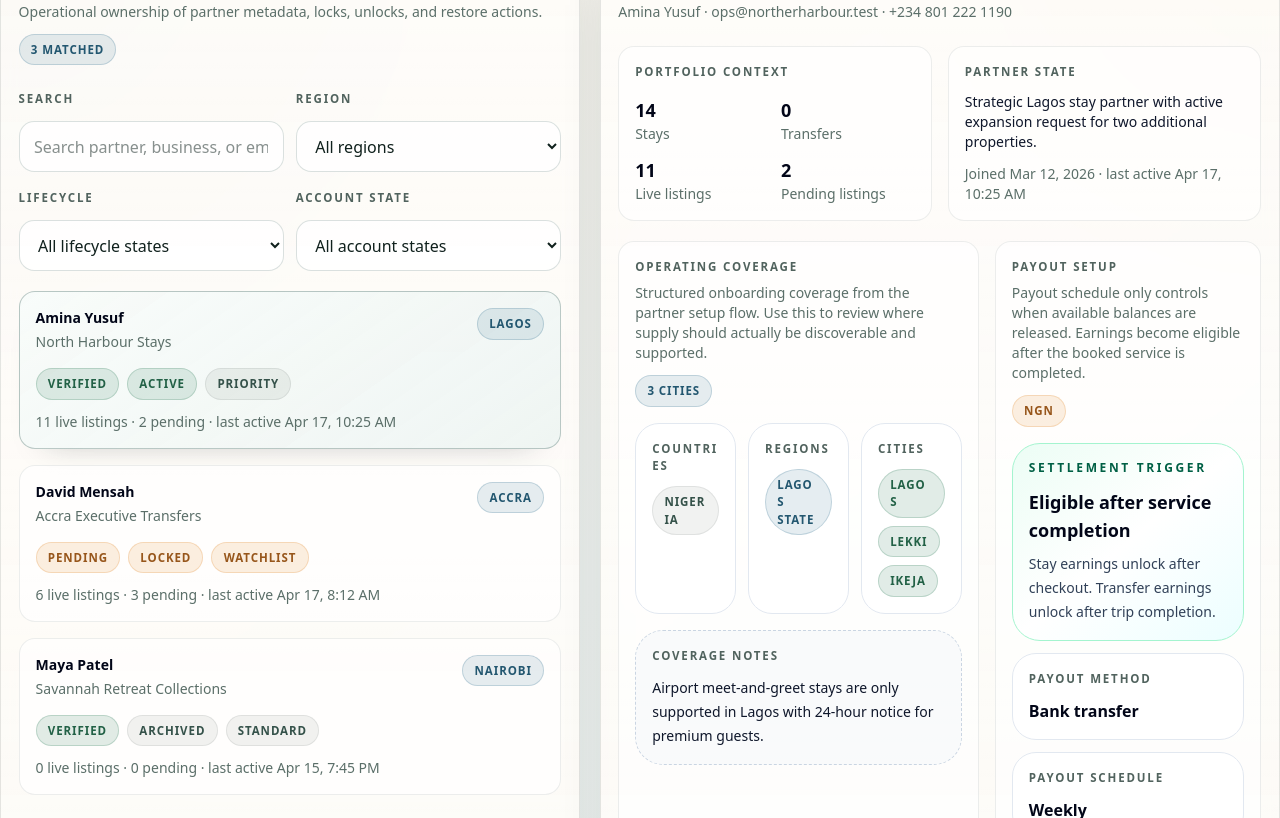
Test: PartnerOperationsWorkspace › applies restore when the selected partner is archived and role allows it
The image size is (1280, 818).
Click the button "Maya Patel" at [290, 717], box top-left (19, 638), bottom-right (561, 795)
(page scrolled)
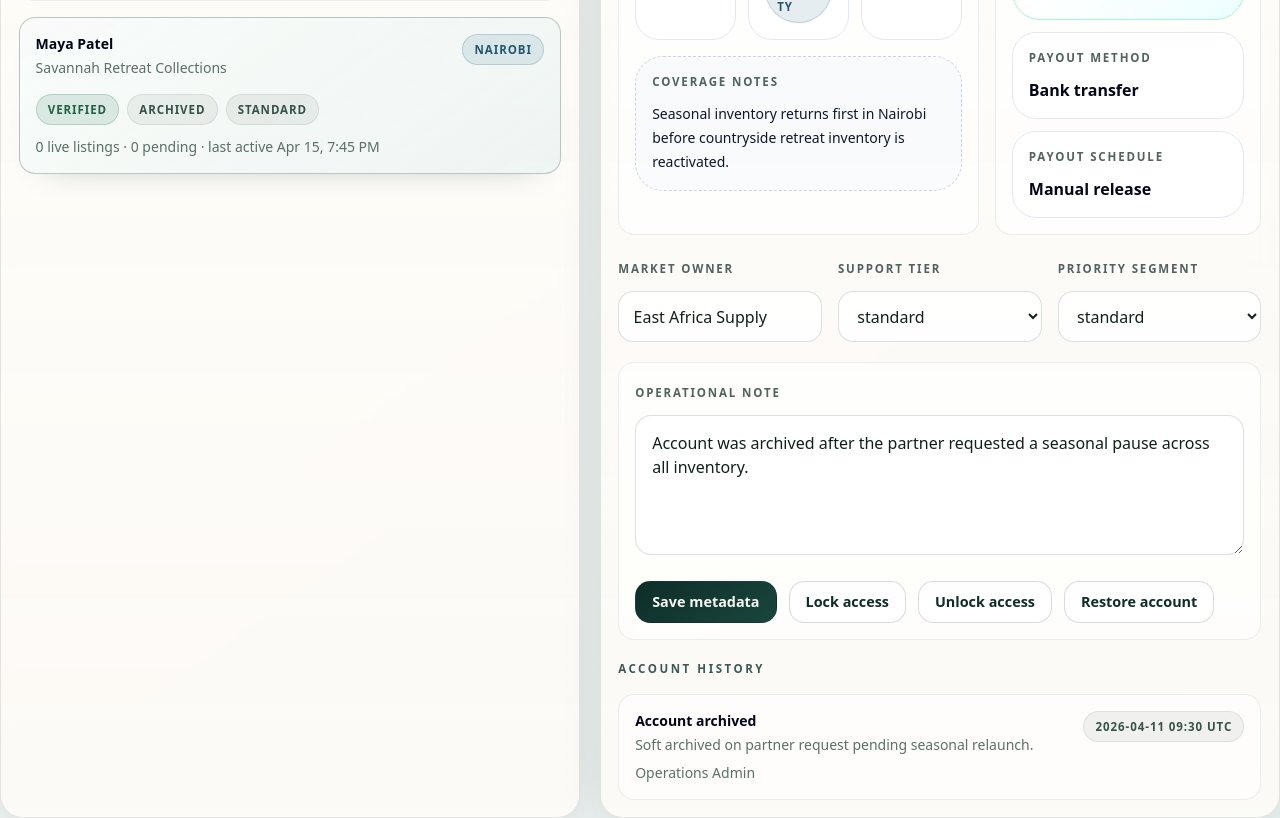
Click the button "Restore account" at [1139, 602], box top-left (1064, 581), bottom-right (1214, 623)
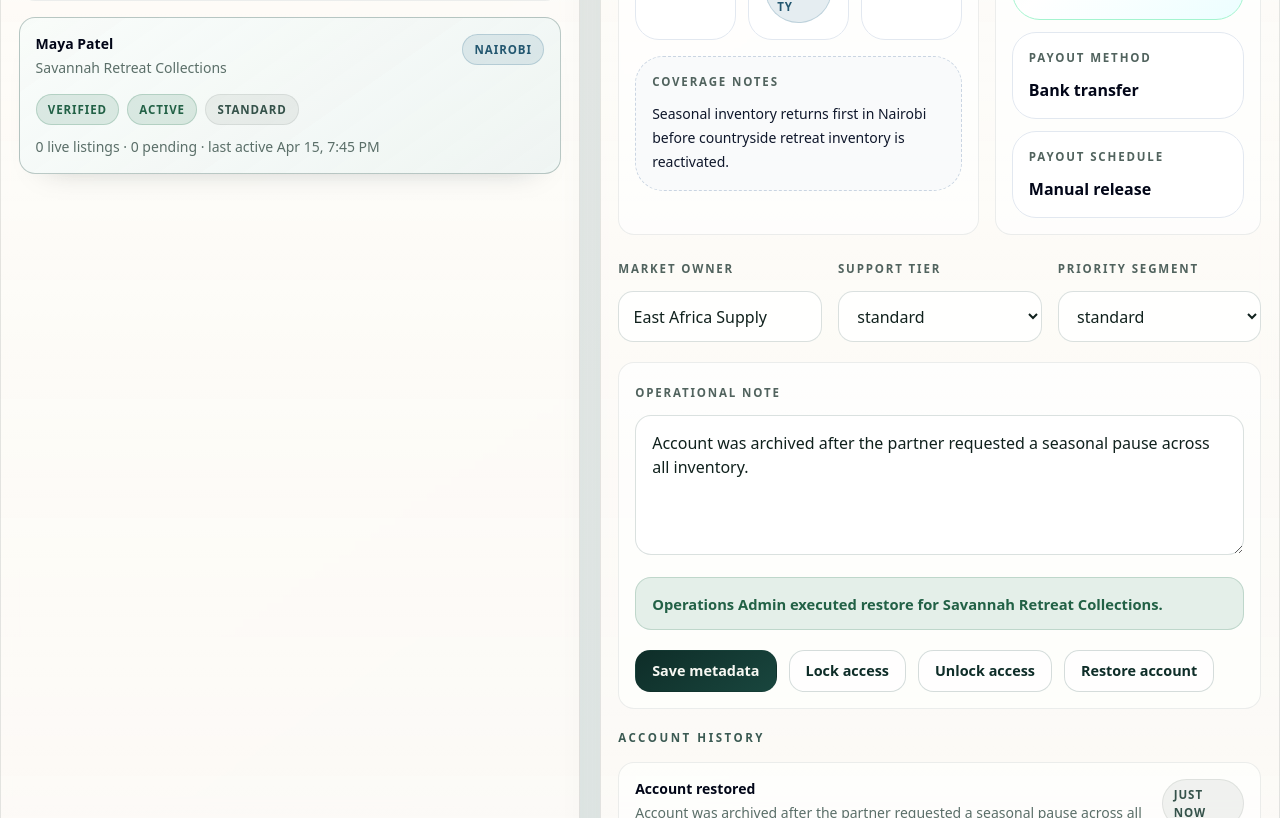
Check: the text "executed restore" is shown, box top-left (652, 594), bottom-right (1163, 614)
Check: the text "Account restored" is shown, box top-left (635, 779), bottom-right (755, 798)
